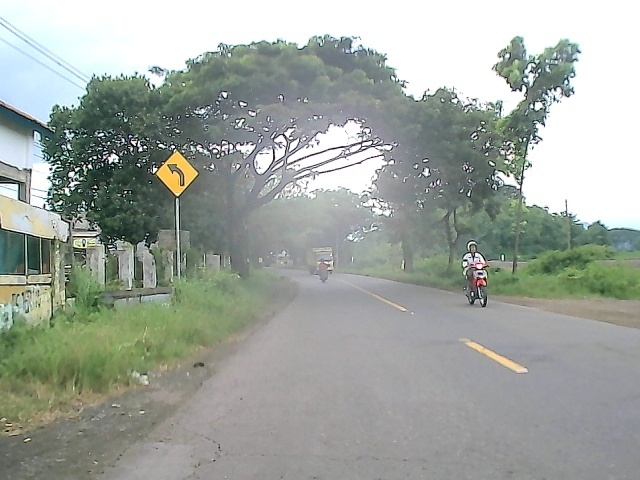Tikungan ke kiri: (154, 151, 199, 196)
